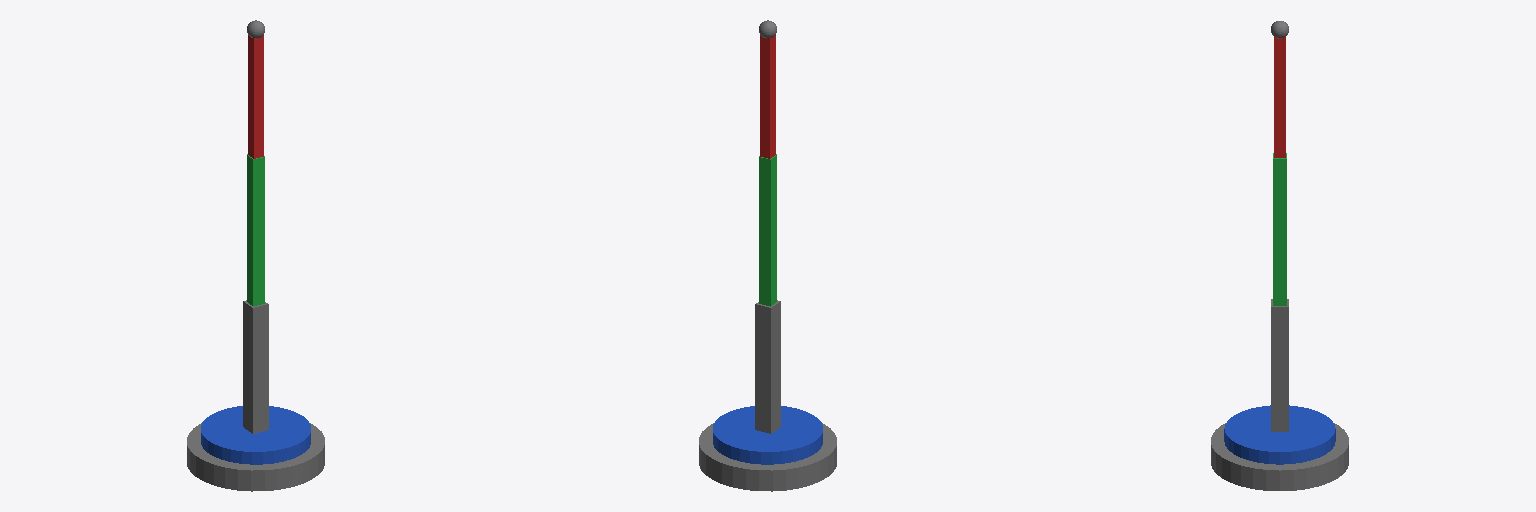
robot.urdf — robot_proyecto:
<?xml version="1.0"?>
<robot name="robot_proyecto">

  <!-- ==================== MATERIALES ==================== -->
  <material name="gris">
    <color rgba="0.5 0.5 0.5 1.0"/>
  </material>
  <material name="azul">
    <color rgba="0.2 0.4 0.8 1.0"/>
  </material>
  <material name="verde">
    <color rgba="0.2 0.7 0.3 1.0"/>
  </material>
  <material name="rojo">
    <color rgba="0.8 0.2 0.2 1.0"/>
  </material>

  <!-- ==================== WORLD / GROUND ==================== -->
  <link name="world"/>

  <!-- ==================== BASE CIRCULAR (fija al suelo) ==================== -->
  <link name="base_link">
    <visual>
      <geometry>
        <cylinder radius="0.15" length="0.05"/>
      </geometry>
      <origin xyz="0 0 0.025" rpy="0 0 0"/>
      <material name="gris"/>
    </visual>
    <collision>
      <geometry>
        <cylinder radius="0.15" length="0.05"/>
      </geometry>
      <origin xyz="0 0 0.025" rpy="0 0 0"/>
    </collision>
    <inertial>
      <mass value="2.0"/>
      <origin xyz="0 0 0.025"/>
      <inertia ixx="0.015" iyy="0.015" izz="0.022" ixy="0" ixz="0" iyz="0"/>
    </inertial>
  </link>

  <joint name="world_to_base" type="fixed">
    <parent link="world"/>
    <child link="base_link"/>
    <origin xyz="0 0 0" rpy="0 0 0"/>
  </joint>

  <!-- ==================== SHOULDER LINK (plataforma giratoria, revolute Z) ==================== -->
  <link name="shoulder_link">
    <visual>
      <geometry>
        <cylinder radius="0.12" length="0.03"/>
      </geometry>
      <origin xyz="0 0 0.015" rpy="0 0 0"/>
      <material name="azul"/>
    </visual>
    <collision>
      <geometry>
        <cylinder radius="0.12" length="0.03"/>
      </geometry>
      <origin xyz="0 0 0.015" rpy="0 0 0"/>
    </collision>
    <inertial>
      <mass value="1.0"/>
      <origin xyz="0 0 0.015"/>
      <inertia ixx="0.005" iyy="0.005" izz="0.009" ixy="0" ixz="0" iyz="0"/>
    </inertial>
  </link>

  <joint name="shoulder_joint" type="revolute">
    <parent link="base_link"/>
    <child link="shoulder_link"/>
    <origin xyz="0 0 0.05" rpy="0 0 0"/>
    <axis xyz="0 0 1"/>
    <limit lower="-3.14159" upper="3.14159" effort="50" velocity="1.0"/>
  </joint>

  <!-- ==================== ESLABÓN FIJO VERTICAL ==================== -->
  <link name="eslabon_fijo">
    <visual>
      <geometry>
        <box size="0.04 0.04 0.30"/>
      </geometry>
      <origin xyz="0 0 0.15" rpy="0 0 0"/>
      <material name="gris"/>
    </visual>
    <collision>
      <geometry>
        <box size="0.04 0.04 0.30"/>
      </geometry>
      <origin xyz="0 0 0.15" rpy="0 0 0"/>
    </collision>
    <inertial>
      <mass value="1.5"/>
      <origin xyz="0 0 0.15"/>
      <inertia ixx="0.012" iyy="0.012" izz="0.001" ixy="0" ixz="0" iyz="0"/>
    </inertial>
  </link>

  <joint name="joint_fijo" type="fixed">
    <parent link="shoulder_link"/>
    <child link="eslabon_fijo"/>
    <origin xyz="0 0 0.03" rpy="0 0 0"/>
  </joint>

  <!-- ==================== ARM LINK (eslabón 1, revolute Y) ==================== -->
  <link name="arm_link">
    <visual>
      <geometry>
        <box size="0.03 0.03 0.35"/>
      </geometry>
      <origin xyz="0 0 0.175" rpy="0 0 0"/>
      <material name="verde"/>
    </visual>
    <collision>
      <geometry>
        <box size="0.03 0.03 0.35"/>
      </geometry>
      <origin xyz="0 0 0.175" rpy="0 0 0"/>
    </collision>
    <inertial>
      <mass value="1.0"/>
      <origin xyz="0 0 0.175"/>
      <inertia ixx="0.011" iyy="0.011" izz="0.001" ixy="0" ixz="0" iyz="0"/>
    </inertial>
  </link>

  <joint name="arm_joint" type="revolute">
    <parent link="eslabon_fijo"/>
    <child link="arm_link"/>
    <origin xyz="0 0 0.30" rpy="0 0 0"/>
    <axis xyz="0 1 0"/>
    <limit lower="-1.5708" upper="1.5708" effort="30" velocity="1.0"/>
  </joint>

  <!-- ==================== FOREARM LINK (eslabón 2, revolute Y) ==================== -->
  <link name="forearm_link">
    <visual>
      <geometry>
        <box size="0.025 0.025 0.30"/>
      </geometry>
      <origin xyz="0 0 0.15" rpy="0 0 0"/>
      <material name="rojo"/>
    </visual>
    <collision>
      <geometry>
        <box size="0.025 0.025 0.30"/>
      </geometry>
      <origin xyz="0 0 0.15" rpy="0 0 0"/>
    </collision>
    <inertial>
      <mass value="0.8"/>
      <origin xyz="0 0 0.15"/>
      <inertia ixx="0.006" iyy="0.006" izz="0.001" ixy="0" ixz="0" iyz="0"/>
    </inertial>
  </link>

  <joint name="forearm_joint" type="revolute">
    <parent link="arm_link"/>
    <child link="forearm_link"/>
    <origin xyz="0 0 0.35" rpy="0 0 0"/>
    <axis xyz="0 1 0"/>
    <limit lower="-1.5708" upper="1.5708" effort="20" velocity="1.0"/>
  </joint>

  <!-- ==================== END EFFECTOR ==================== -->
  <link name="end_effector">
    <visual>
      <geometry>
        <sphere radius="0.02"/>
      </geometry>
      <material name="gris"/>
    </visual>
    <inertial>
      <mass value="0.1"/>
      <inertia ixx="0.0001" iyy="0.0001" izz="0.0001" ixy="0" ixz="0" iyz="0"/>
    </inertial>
  </link>

  <joint name="joint_ee" type="fixed">
    <parent link="forearm_link"/>
    <child link="end_effector"/>
    <origin xyz="0 0 0.30" rpy="0 0 0"/>
  </joint>

</robot>

--- What the picture shows (computed from the rendered views, not written in the file) ---
3 views of the same robot in one strip: view 1: azimuth 30°, elevation 25°; view 2: azimuth 150°, elevation 25°; view 3: azimuth 270°, elevation 25° (orthographic).
Model robot_proyecto with 7 links and 6 joints (3 revolute, 3 fixed), rooted at world, posed every joint at zero.
Links seen in each view (by area): view 1: shoulder_link, base_link, eslabon_fijo, arm_link, forearm_link; view 2: shoulder_link, base_link, eslabon_fijo, arm_link, forearm_link; view 3: shoulder_link, base_link, eslabon_fijo, arm_link, forearm_link.
Link boxes in pixels (x1,y1,x2,y2): shoulder_link: (201,406,310,464); base_link: (187,423,324,491); eslabon_fijo: (243,300,268,433); arm_link: (247,154,264,306); forearm_link: (248,35,263,158); shoulder_link: (713,406,822,464); base_link: (699,423,836,491); eslabon_fijo: (755,300,780,433); arm_link: (759,154,776,306); forearm_link: (760,35,775,158); shoulder_link: (1224,405,1335,464); base_link: (1211,423,1348,490); eslabon_fijo: (1271,299,1288,431); arm_link: (1273,153,1286,305); forearm_link: (1274,36,1285,157).
Bounding box of the posed robot: 0.3 × 0.3 × 1.05 m (x, y, z).
Geometry: primitives only (box / cylinder / sphere), no mesh files.
